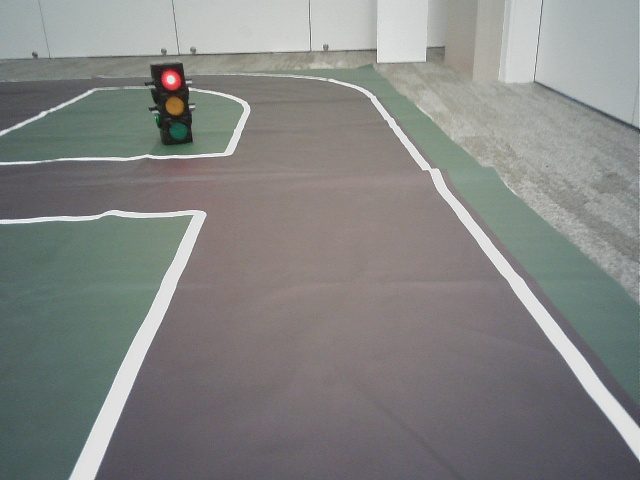red: (156, 67, 189, 141)
